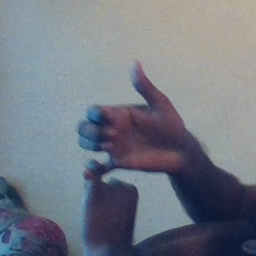S: (68, 58, 172, 230)
